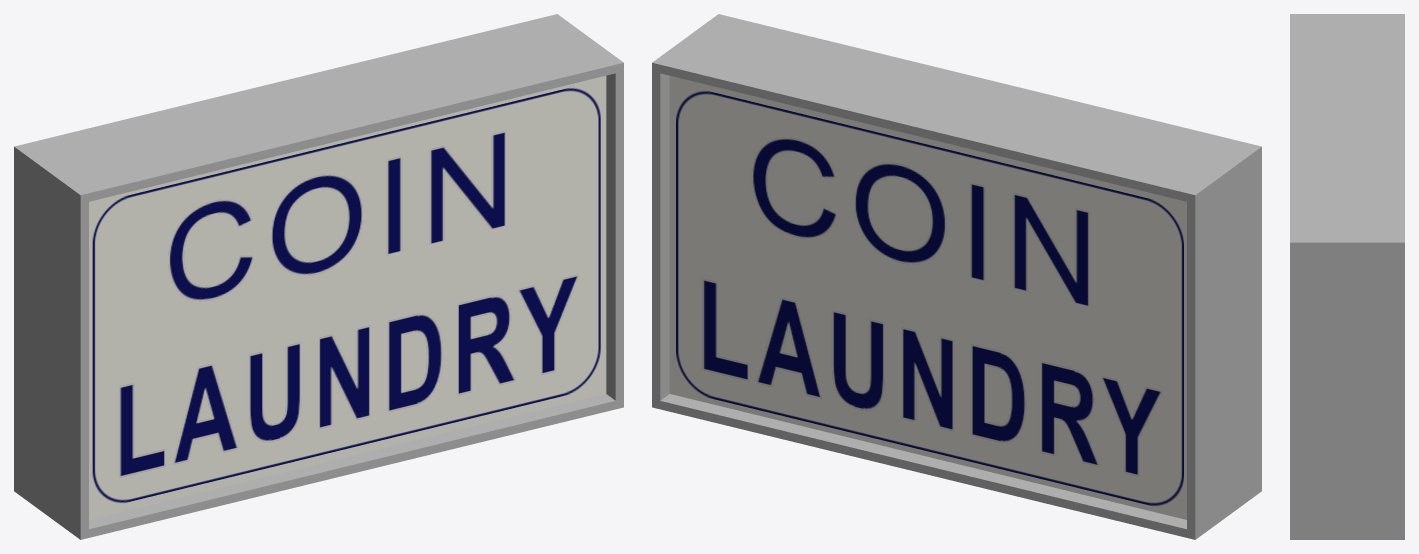
Rendered from Day 10 - CoinLaundry.glb.
3 views of the same model, side by side, from view 1: azimuth 30°, elevation 25°; view 2: azimuth 150°, elevation 25°; view 3: azimuth 270°, elevation 25° (orthographic). The views are drawn at different scales.
Parts seen in each view (by area): view 1: Buffer Object (×2), CoinLaundry; view 2: Buffer Object (×2), CoinLaundry 1; view 3: Buffer Object.
Boxes of the visible parts, box(x1,y1,x2,y2) form: Buffer Object (×2): box(14, 14, 623, 539); CoinLaundry: box(92, 88, 600, 502); Buffer Object (×2): box(652, 14, 1261, 539); CoinLaundry 1: box(676, 91, 1183, 505); Buffer Object: box(1290, 14, 1404, 539).
Bounding box in the file's own units: 2.13 × 1.29 × 0.4516.
4 materials, 2 textured.
